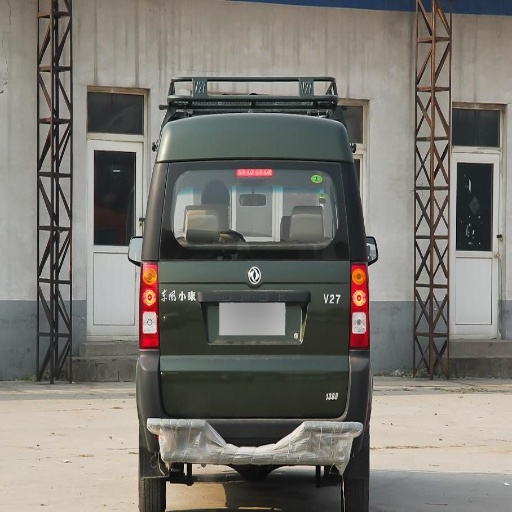back_bumper: (142, 355, 367, 467)
tailgate: (274, 160, 342, 184)
trunk: (159, 236, 353, 409), (175, 159, 272, 197)
